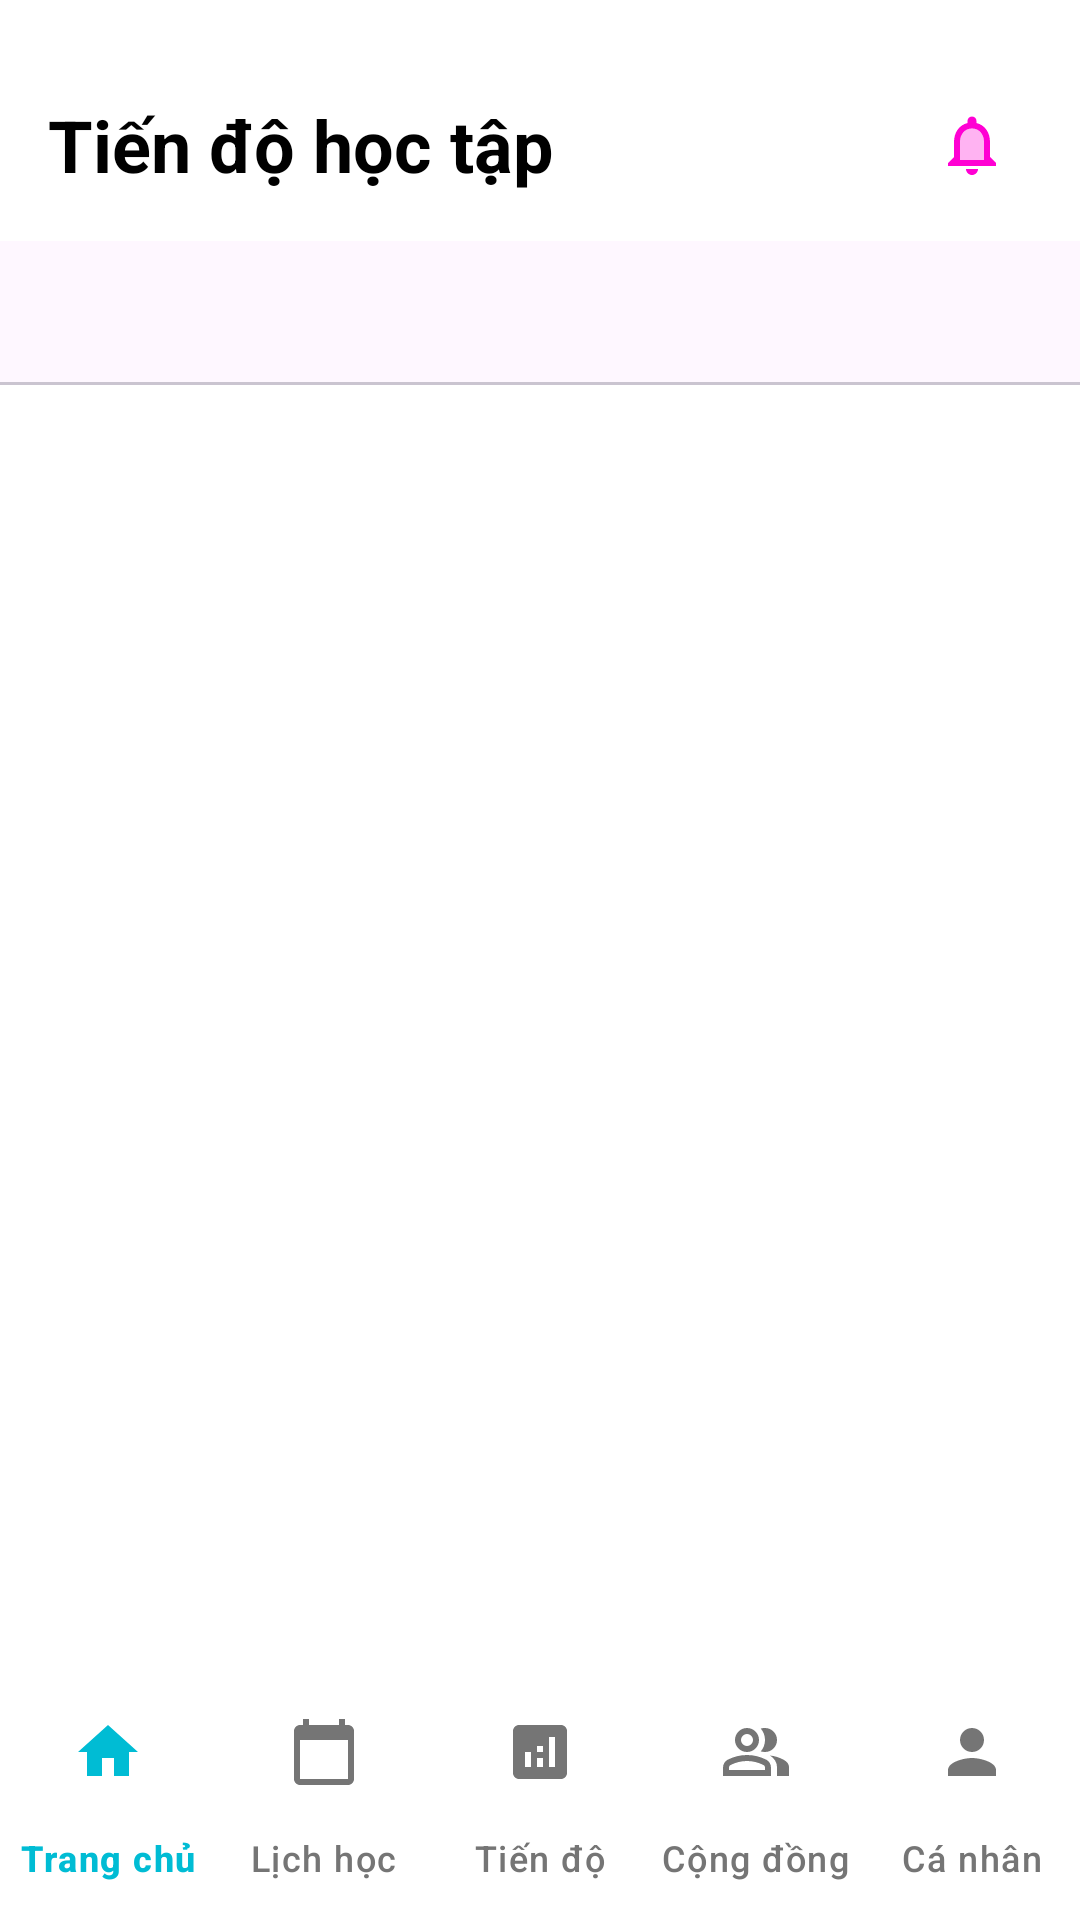

Where to tap for icons on this 1080px x 1920px app screen, as point (x, y):
notifications: point (972, 145)
